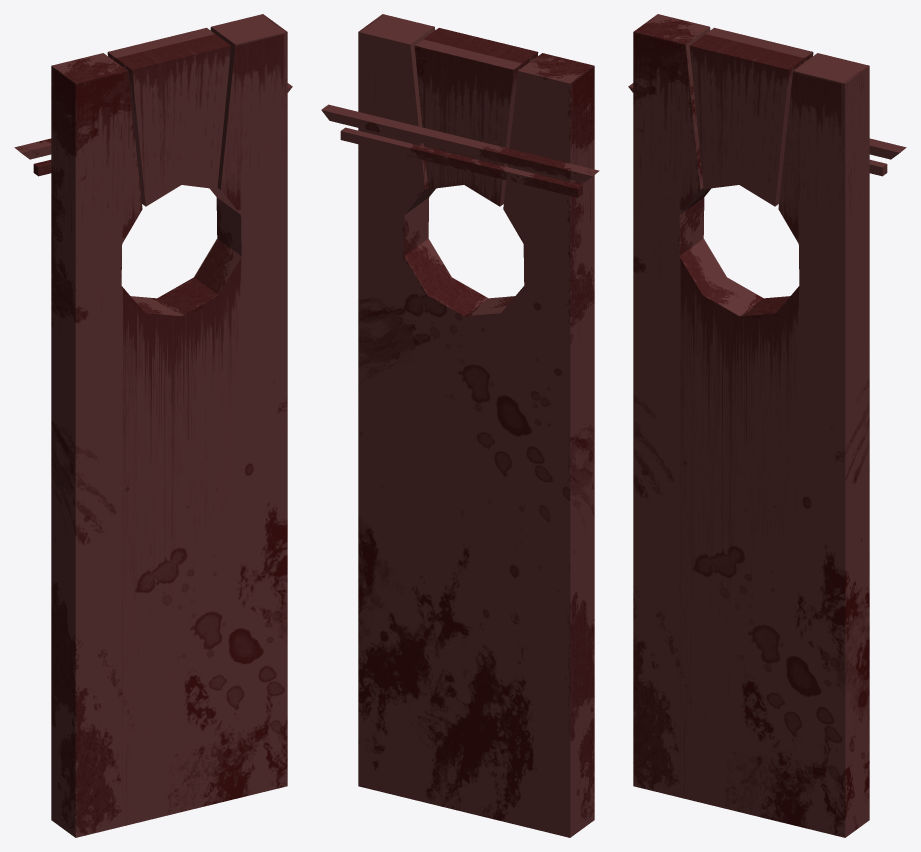
Rendered from mok.fbx.
3 renders of one model, left to right at view 1: azimuth 30°, elevation 25°; view 2: azimuth 150°, elevation 25°; view 3: azimuth 330°, elevation 25°, orthographic.
Visible parts, largest first — view 1: mok_low; view 2: mok_low; view 3: mok_low.
Part boxes in pixels (box(x1,y1,x2,y2)): mok_low: box(14, 14, 292, 837); mok_low: box(321, 14, 599, 837); mok_low: box(628, 14, 906, 837).
Size of the model in its own units: 64 by 170 by 13.
Materials: 1 (1 with a texture image).
